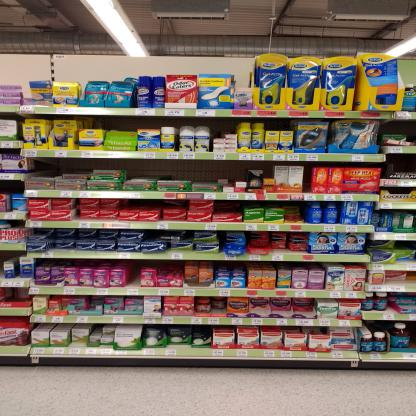Void: (130, 159, 215, 178), (85, 117, 137, 130), (34, 161, 86, 173), (125, 200, 183, 210), (219, 161, 241, 180), (393, 154, 415, 172), (380, 122, 410, 134), (213, 200, 240, 213), (159, 262, 181, 276), (129, 265, 141, 285)
